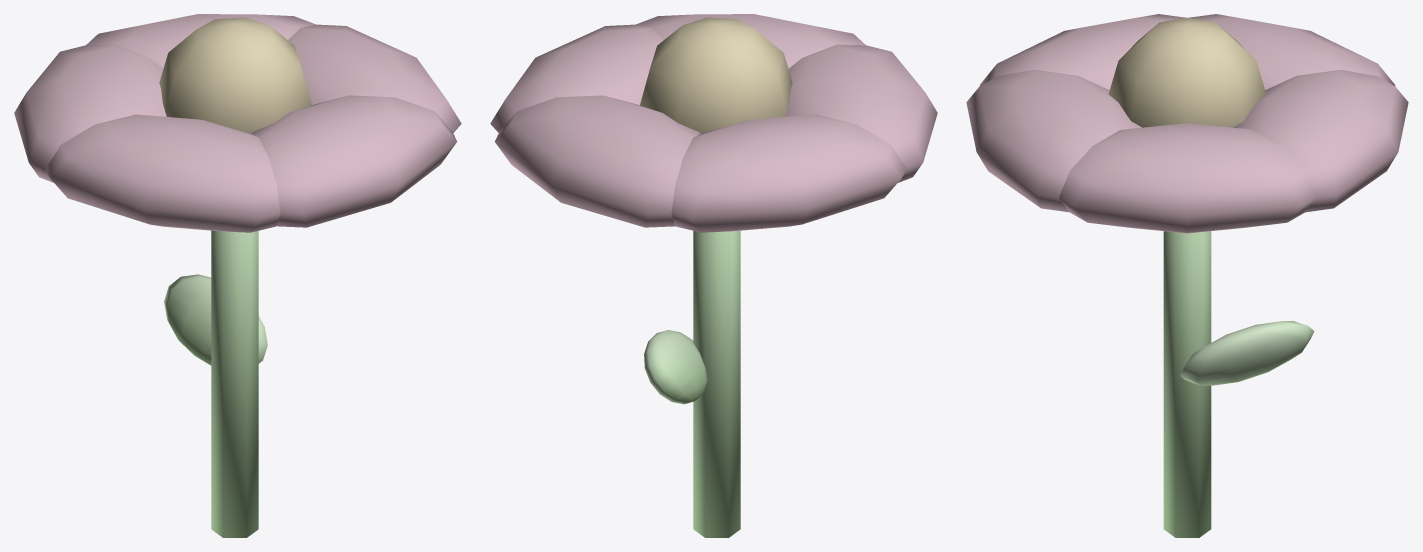
Rendered from flower_warm.glb.
The picture shows the model from 3 angles, left to right: view 1: azimuth 30°, elevation 25°; view 2: azimuth 150°, elevation 25°; view 3: azimuth 270°, elevation 25°; orthographic projection.
Visible parts, largest first — view 1: Petal.003, Petal.004, Stem, FlowerHeart, Petal.002, Petal, Petal.001, Leaf; view 2: Petal.002, Petal.001, Stem, FlowerHeart, Petal.003, Petal, Petal.004, Leaf; view 3: Petal, Petal.001, Petal.004, Stem, FlowerHeart, Petal.002, Petal.003, Leaf.
Part boxes in pixels (box(x1,y1,x2,y2)): Petal.003: box(45, 114, 280, 232); Petal.004: box(251, 95, 457, 227); Stem: box(211, 230, 258, 537); FlowerHeart: box(159, 17, 311, 133); Petal.002: box(14, 44, 166, 182); Petal: box(288, 24, 461, 132); Petal.001: box(86, 14, 315, 68); Leaf: box(164, 274, 267, 365); Petal.002: box(671, 114, 906, 232); Petal.001: box(494, 95, 700, 227); Stem: box(693, 230, 740, 537); FlowerHeart: box(640, 17, 792, 133); Petal.003: box(785, 44, 937, 182); Petal: box(490, 24, 663, 132); Petal.004: box(636, 14, 865, 68); Leaf: box(644, 330, 707, 404); Petal: box(1059, 123, 1315, 233); Petal.001: box(1233, 69, 1408, 212); Petal.004: box(966, 69, 1141, 212); Stem: box(1163, 231, 1211, 537); FlowerHeart: box(1108, 17, 1266, 127); Petal.002: box(1189, 14, 1395, 89); Petal.003: box(979, 14, 1185, 89); Leaf: box(1180, 321, 1314, 385).
Bounding box in the file's own units: 0.3395 × 0.4225 × 0.3356.
